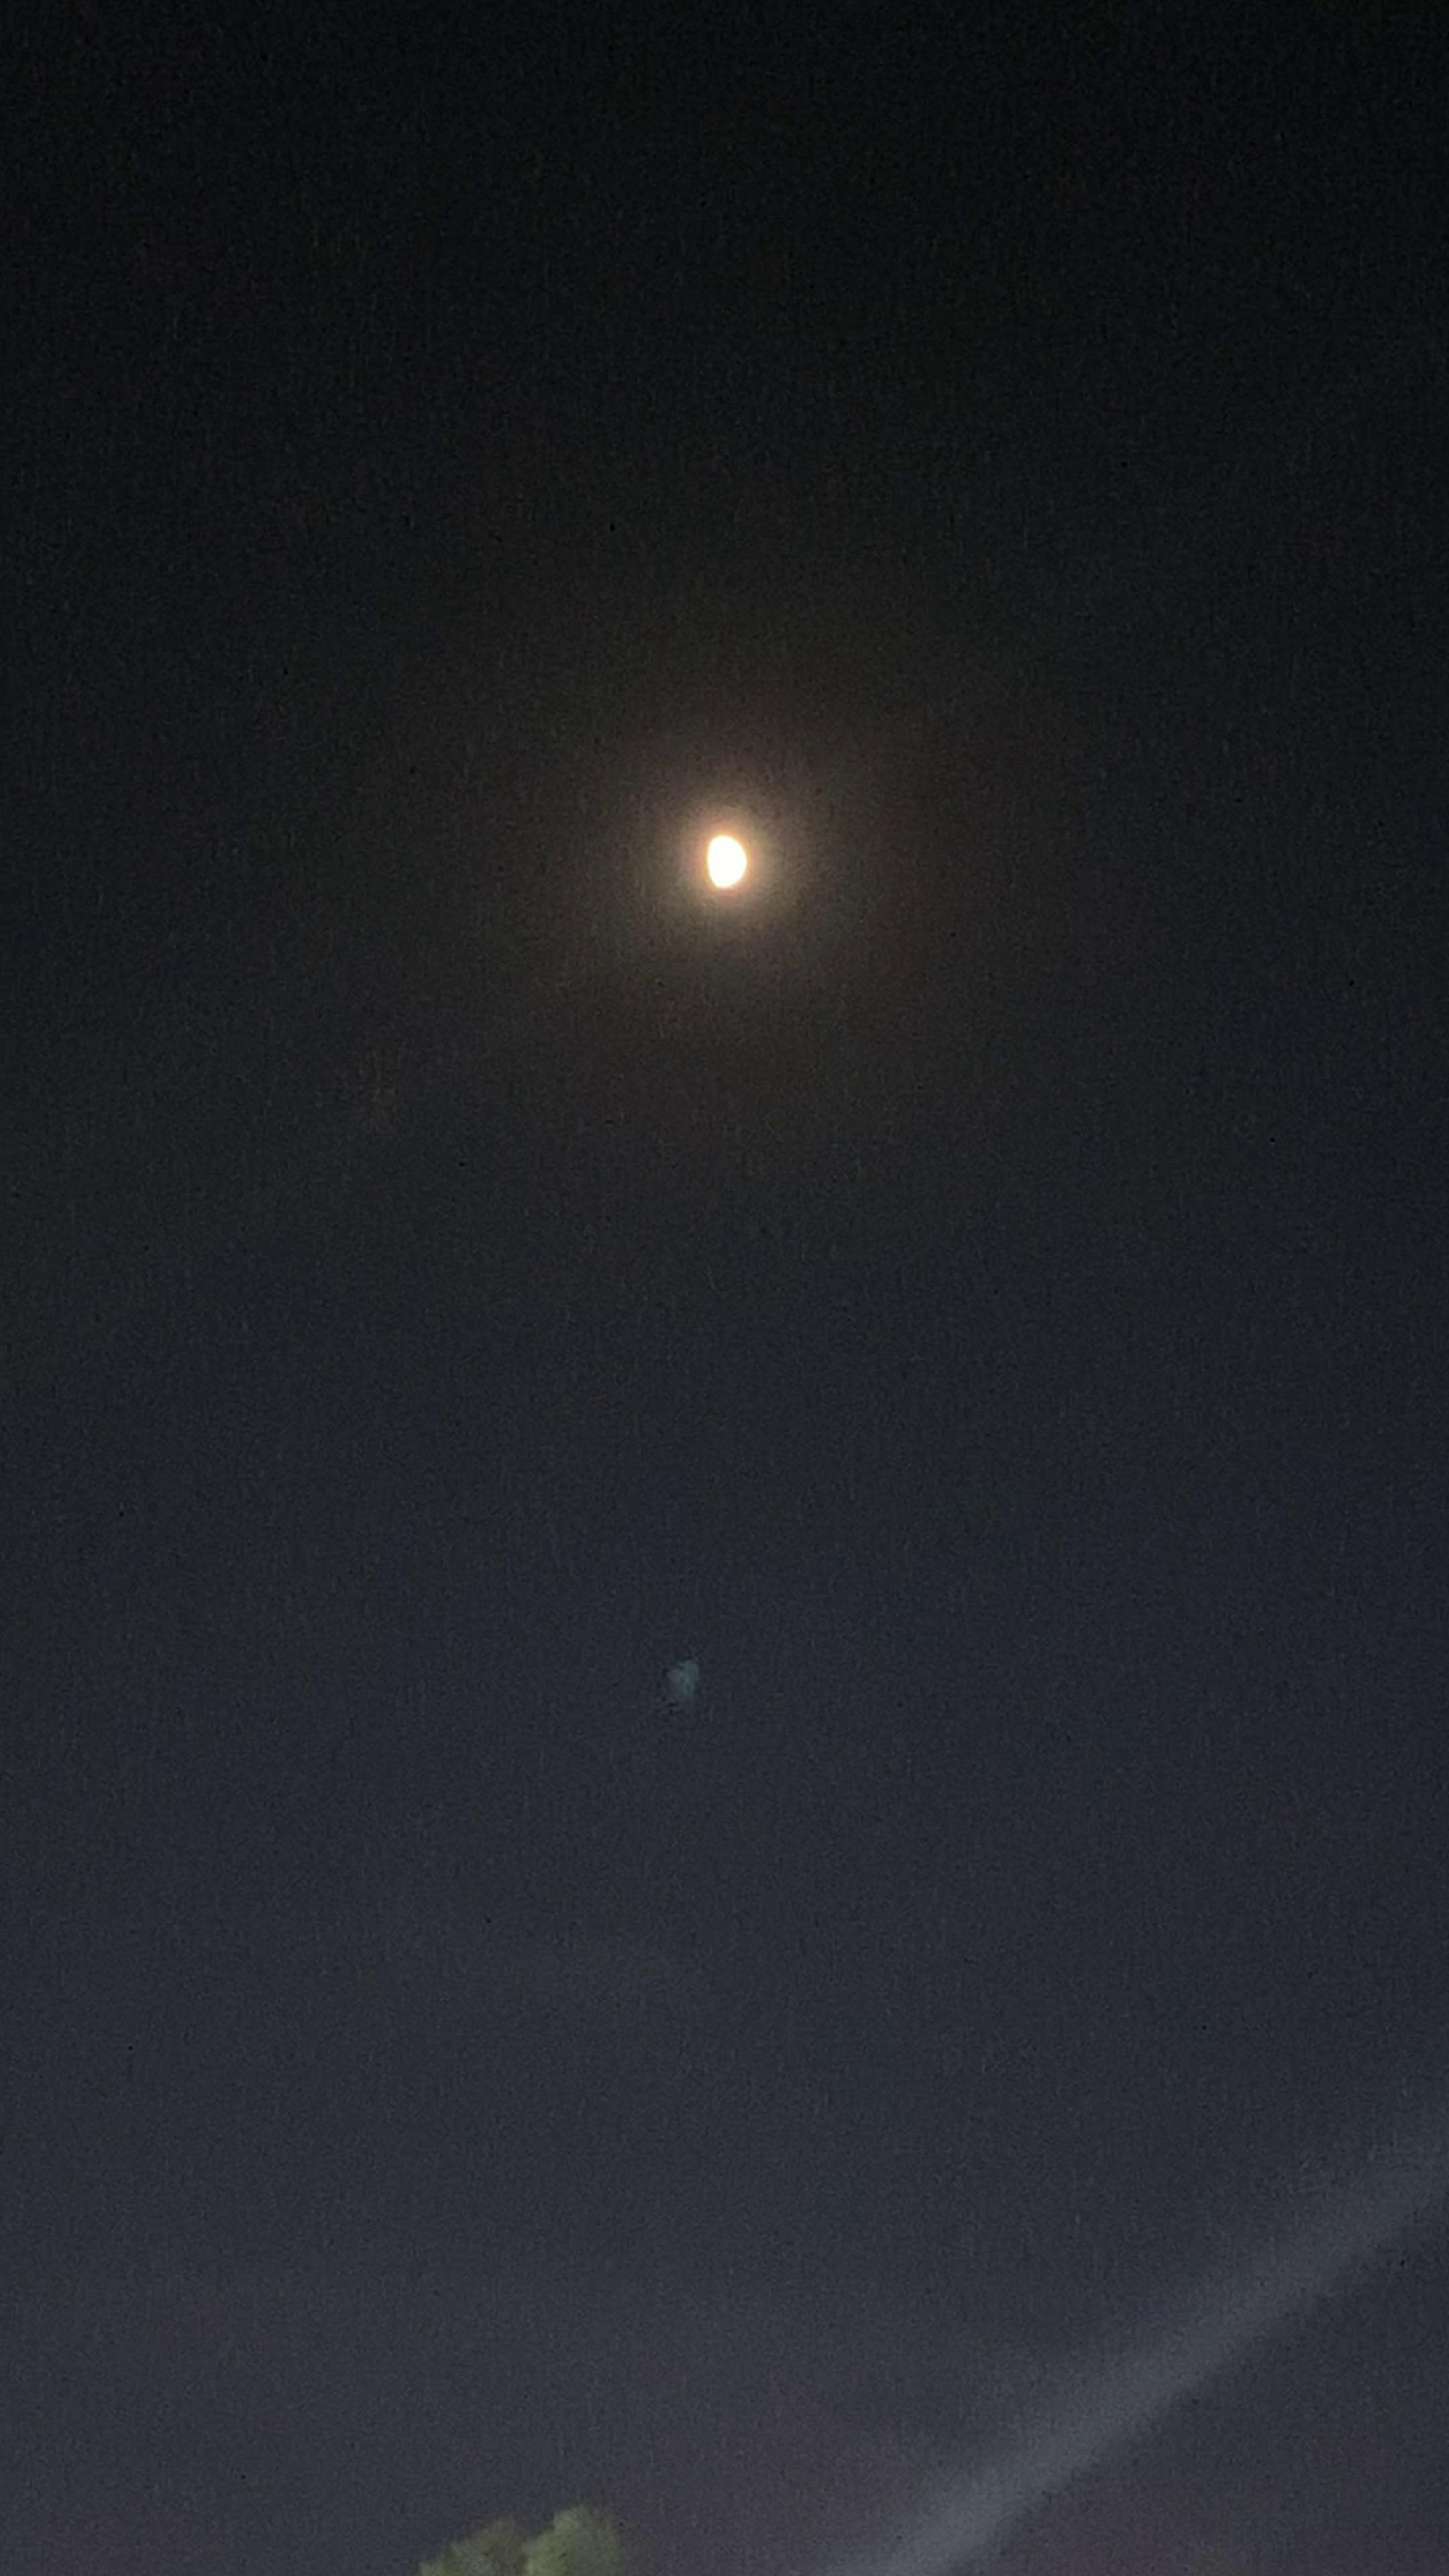moon: (672, 805, 789, 932)
